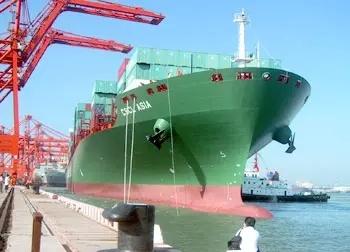Cargoship: (51, 7, 312, 224)
otherboat: (241, 159, 331, 198)
